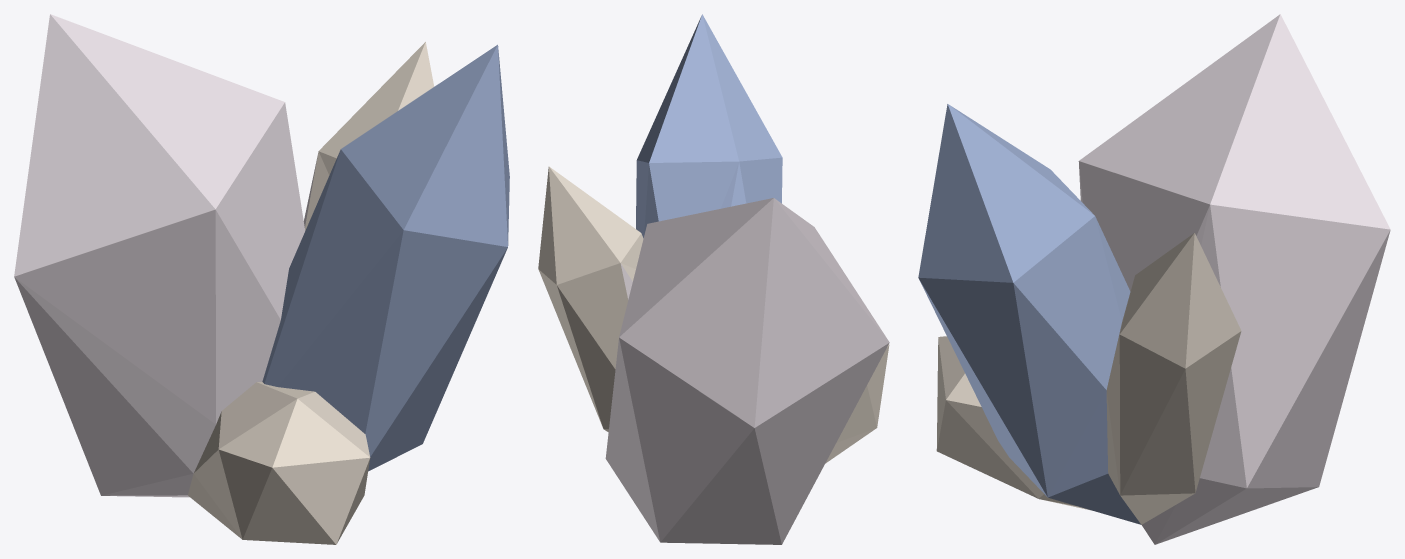
Rendered from crystals.dae.
3 renders of one model, left to right at view 1: azimuth 30°, elevation 25°; view 2: azimuth 150°, elevation 25°; view 3: azimuth 270°, elevation 25°, orthographic. The views are drawn at different scales.
Visible parts, largest first — view 1: Icosphere_003; view 2: Icosphere_003; view 3: Icosphere_003.
Boxes of the visible parts, bbox=[...] form: Icosphere_003: bbox=[14, 14, 509, 544]; Icosphere_003: bbox=[538, 14, 889, 544]; Icosphere_003: bbox=[918, 14, 1390, 544].
Bounding box in the file's own units: 5.63 × 5.65 × 6.32.
